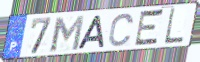7: (29, 16, 54, 56)
A: (76, 14, 107, 51)
C: (107, 12, 136, 48)
E: (133, 8, 166, 48)
L: (163, 7, 185, 46)
M: (49, 14, 86, 53)
